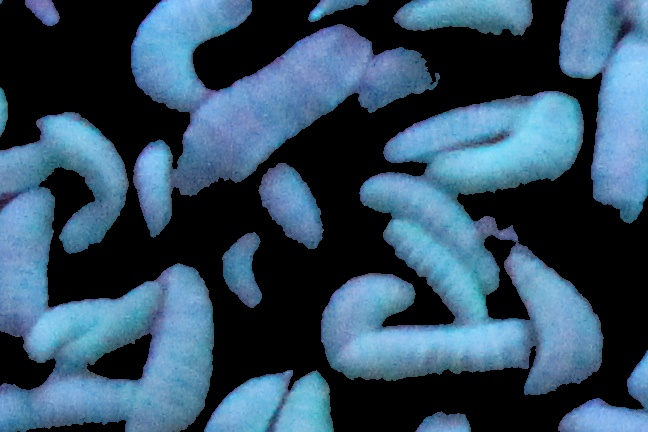larvae: (177, 25, 372, 202), (428, 88, 585, 204), (361, 172, 499, 293), (503, 243, 603, 397), (127, 262, 216, 432), (129, 1, 255, 106), (345, 49, 516, 123), (39, 113, 128, 254), (334, 319, 537, 379), (381, 219, 494, 323), (386, 96, 527, 167), (594, 36, 648, 216), (58, 280, 162, 373), (258, 163, 346, 259), (322, 275, 414, 364), (1, 189, 53, 338), (25, 372, 134, 432), (202, 362, 289, 432), (23, 297, 110, 364), (392, 1, 532, 35), (558, 1, 620, 77), (130, 140, 174, 241), (217, 231, 269, 316), (285, 366, 335, 432), (1, 141, 55, 193)
